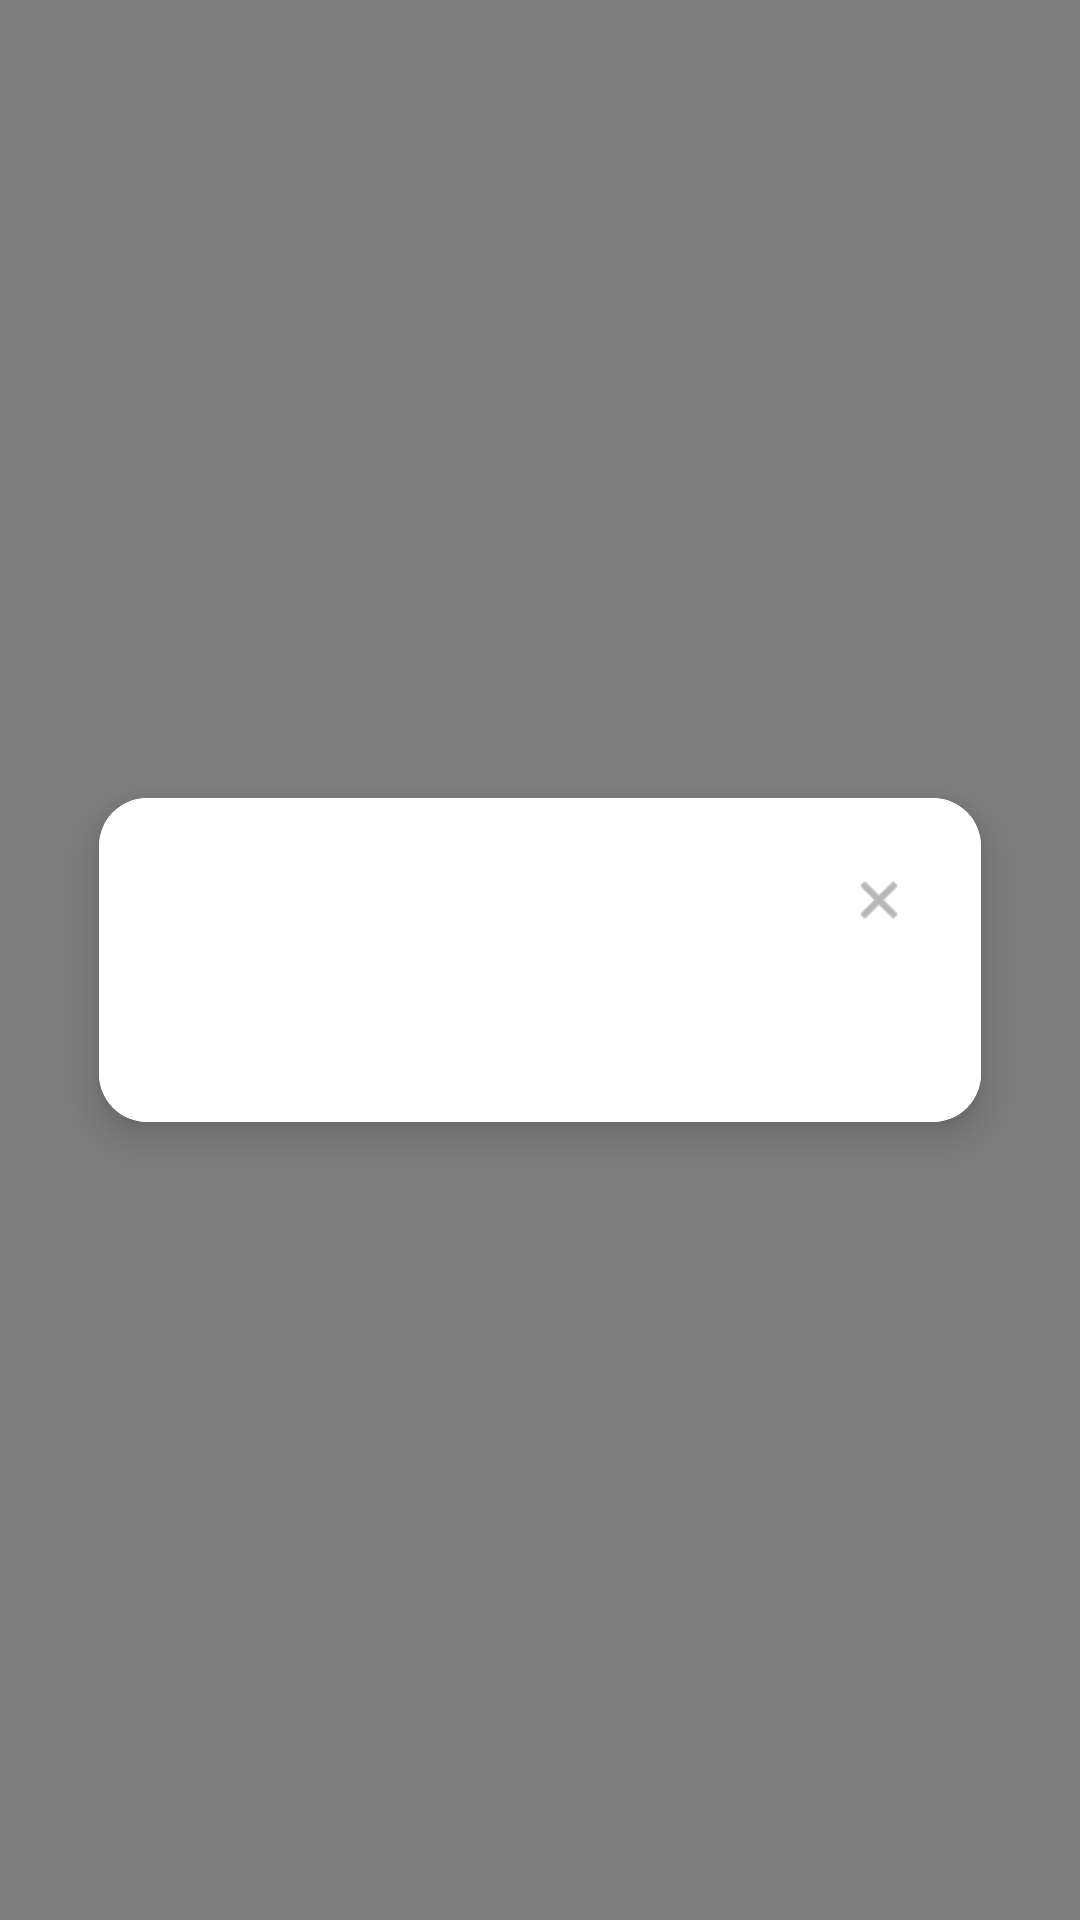

Locate icon controls on the screen. Image size 1080px x 1920px, boxes as (x1,y1,x2,y2).
close clear cancel: (861,882,897,918)
